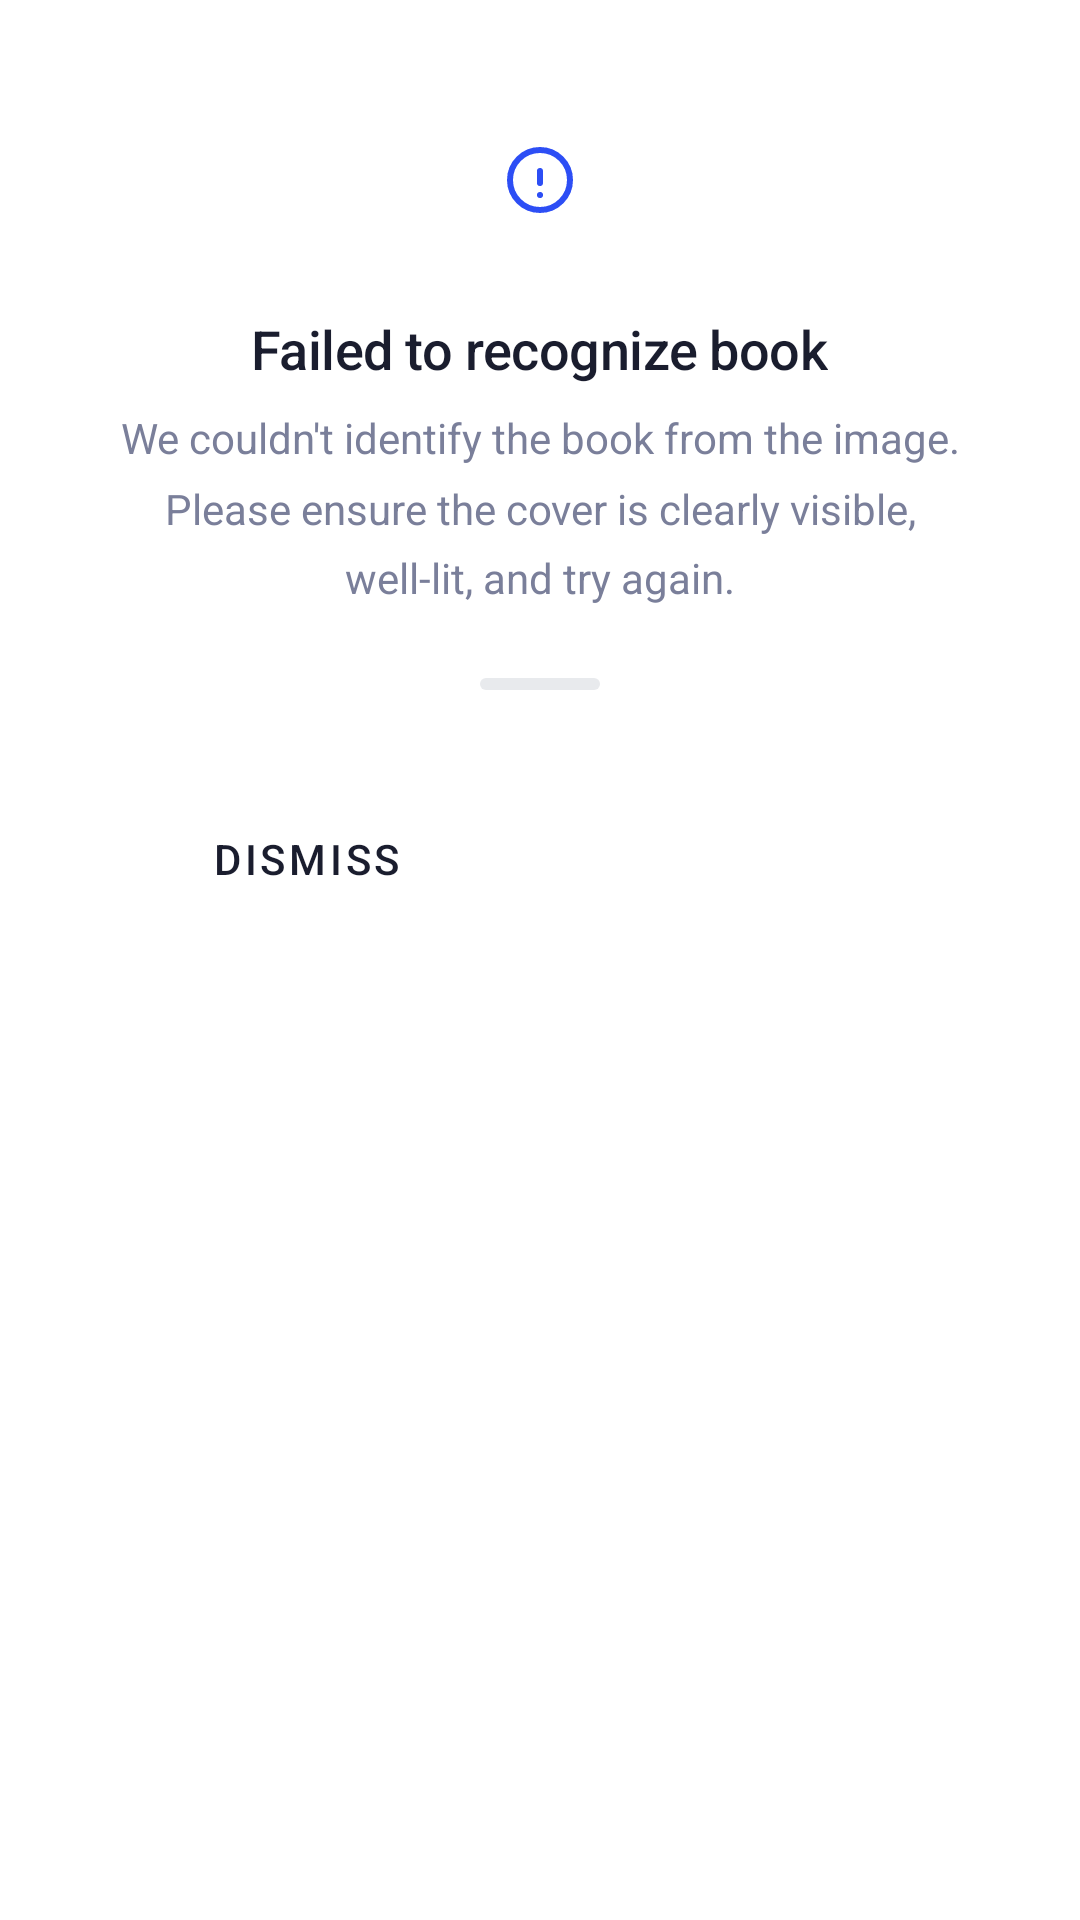

Locate icon controls on the screen. Image size 1080px x 1920px, boxes as (x1, y1, x2, y2).
warning: (507, 147, 573, 213)
